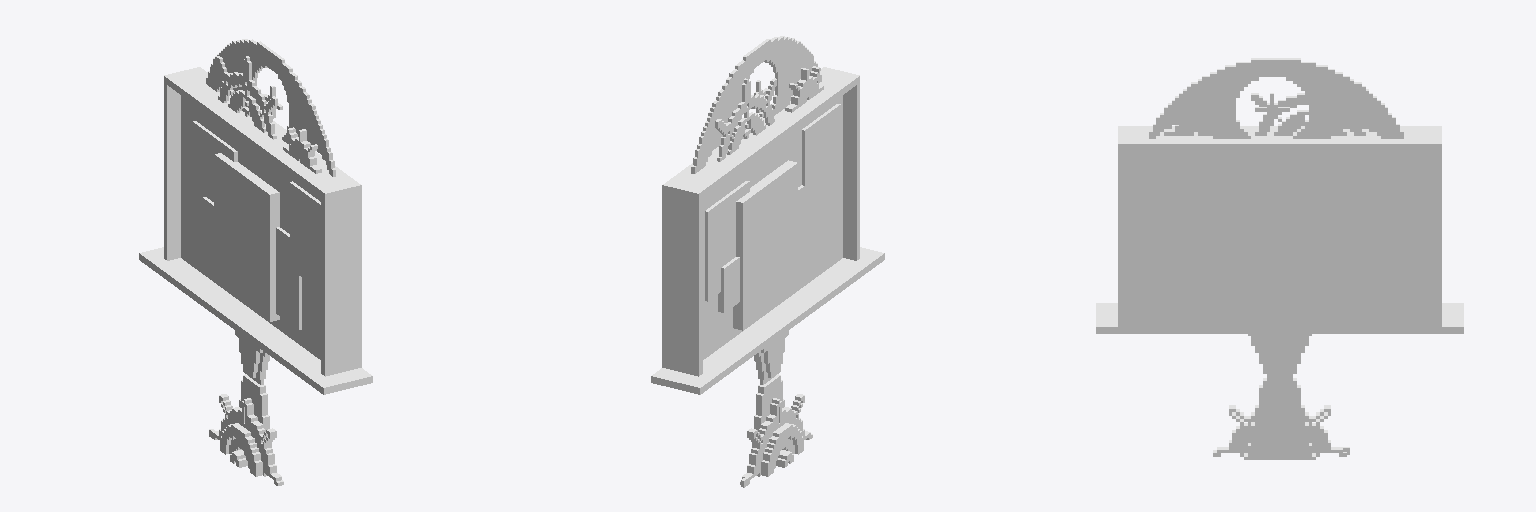
The model's file is phojipan.obj.
3 views of the same model, side by side, from view 1: azimuth 30°, elevation 25°; view 2: azimuth 150°, elevation 25°; view 3: azimuth 270°, elevation 25° (orthographic).
Parts seen in each view (by area): view 1: phojipan; view 2: phojipan; view 3: phojipan.
Part boxes in pixels (x1,y1,x2,y2): phojipan: (139, 39, 372, 485); phojipan: (651, 36, 884, 487); phojipan: (1096, 58, 1463, 459).
Bounding box in the file's own units: 15 × 118 × 97.